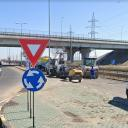preferencia: (16, 35, 54, 68)
